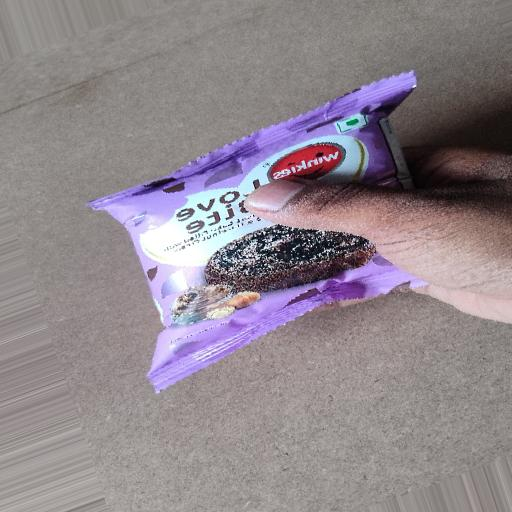Winkies Love Bite cake: (88, 56, 450, 462)
